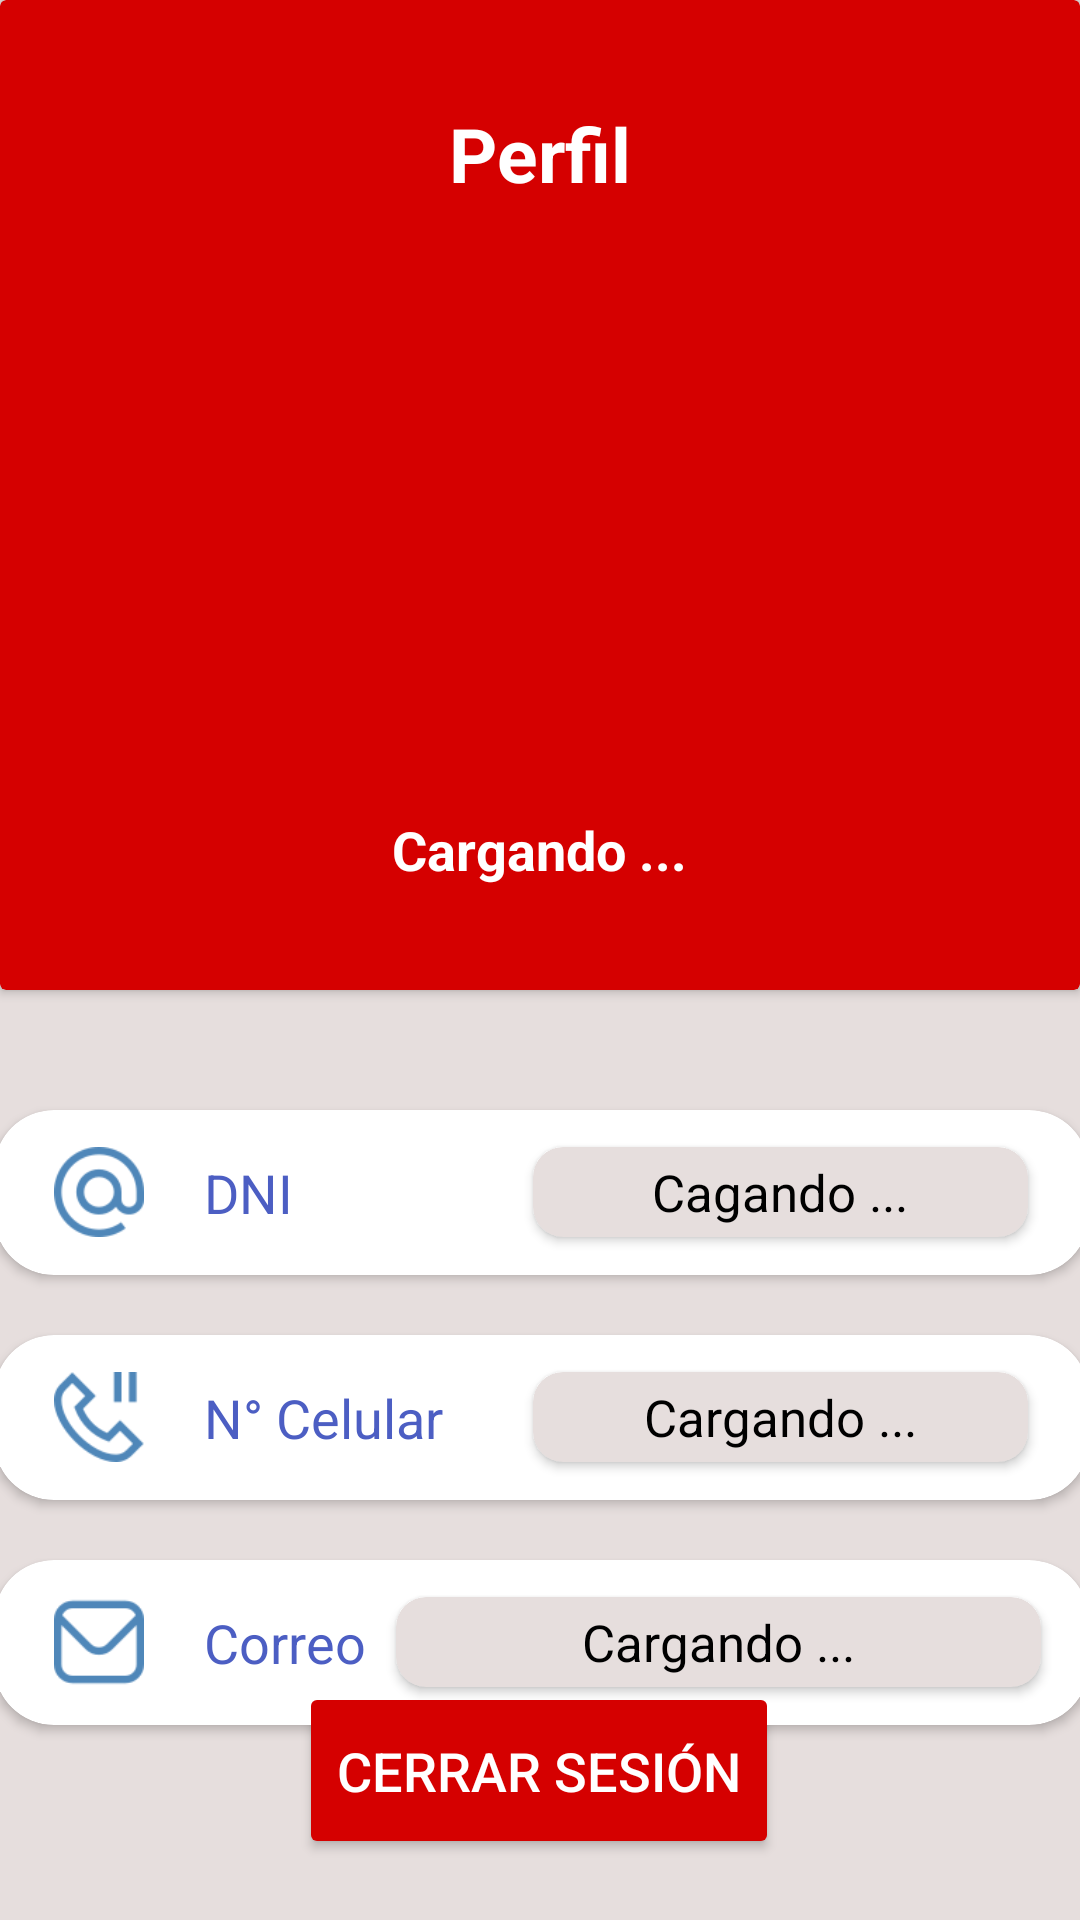

Icons on this 1080 × 1920 Android screen, each with the point to tap as (x=x, y=y):
sobrep: (x=99, y=1642)
telefono: (x=99, y=1417)
